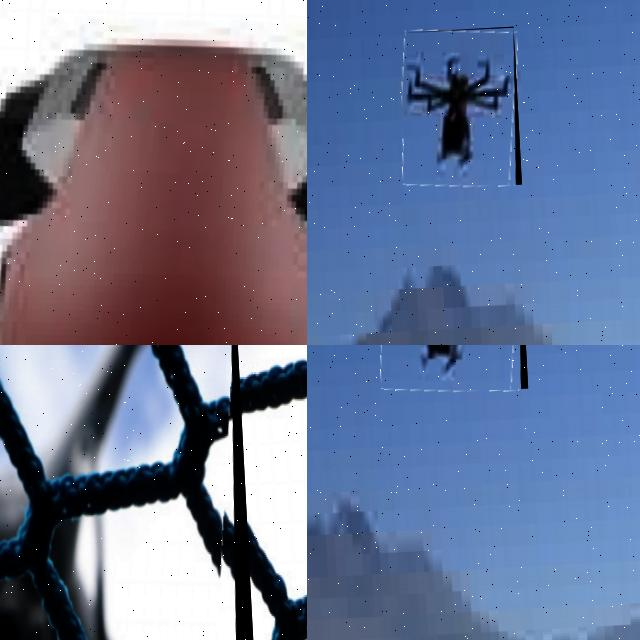0: (398, 27, 522, 190), (375, 345, 529, 396)
drone: (0, 0, 307, 345), (0, 345, 262, 640)
